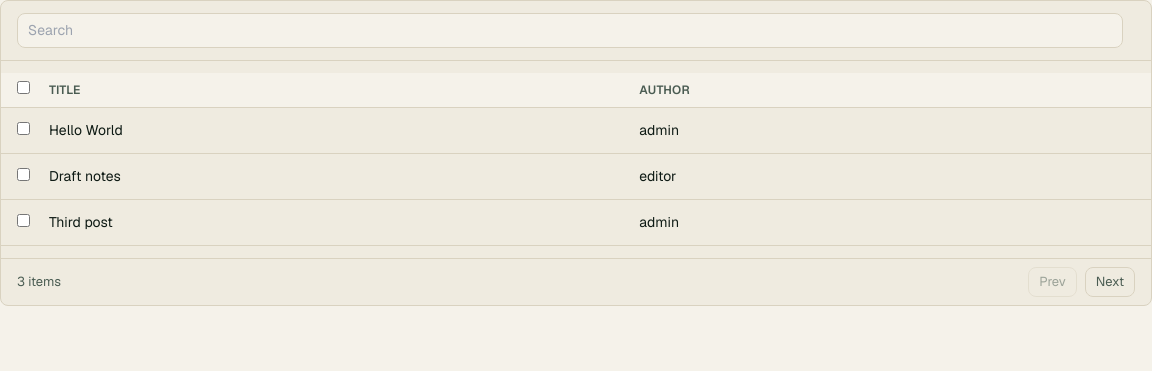
Test case: ResourceList › clears selections that are no longer present in the data
The width and height of the screenshot is (1152, 371).
Click the checkbox named "Select row 2": (24, 174) [17,168,30,181]
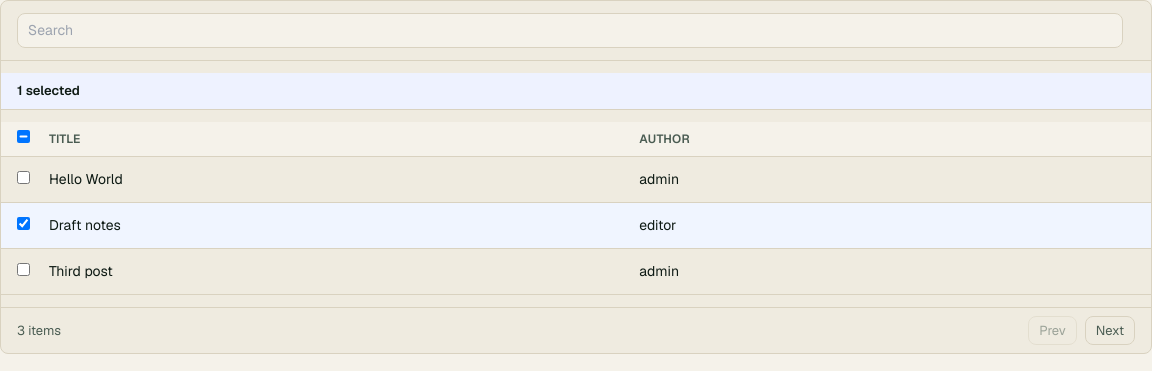
Expected: the text with test id "bulk-selected-count" reads "1 selected", [17,81,80,100]
